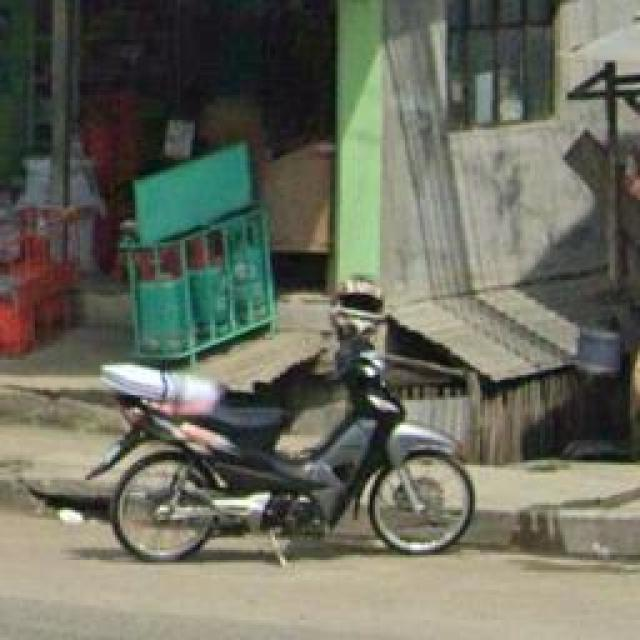motorcycle: (85, 320, 475, 565)
